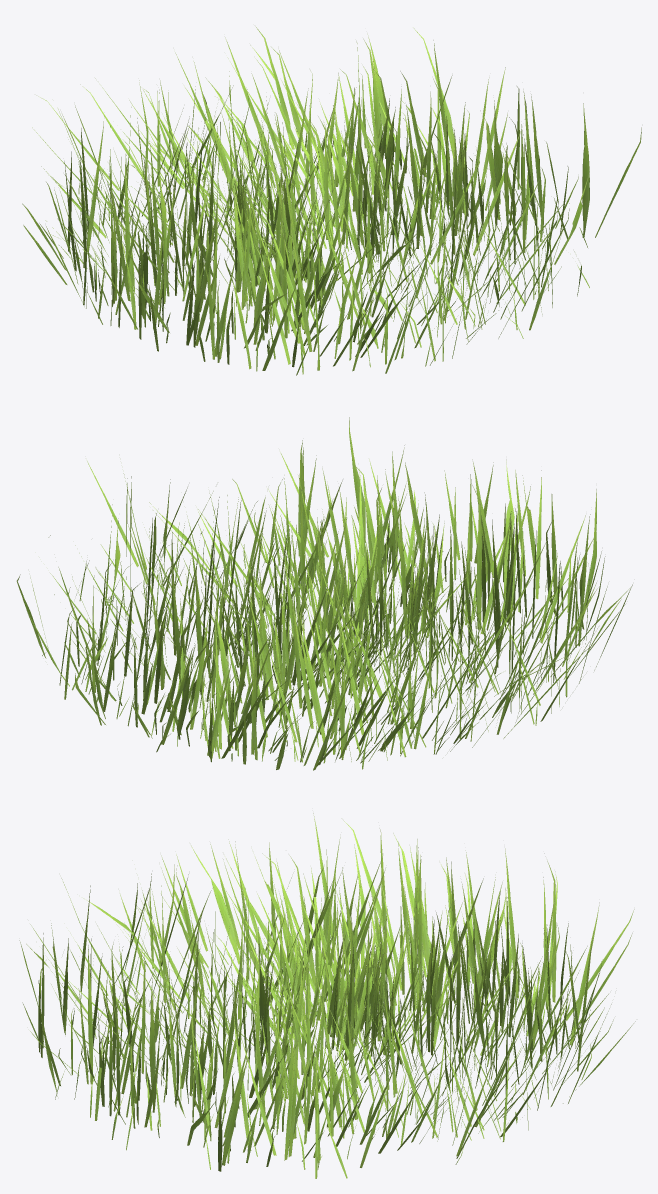
Rendered from grass_patch_1.fbx.
3 renders of one model, top to bottom at view 1: azimuth 30°, elevation 25°; view 2: azimuth 150°, elevation 25°; view 3: azimuth 270°, elevation 25°, orthographic. The views are drawn at different scales.
Visible parts, largest first — view 1: GrassLawnAutumn_Grass2_Mat1_0; view 2: GrassLawnAutumn_Grass2_Mat1_0; view 3: GrassLawnAutumn_Grass2_Mat1_0.
Boxes of the visible parts, left/top/right/bottom form: GrassLawnAutumn_Grass2_Mat1_0: left=22, top=26, right=641, bottom=375; GrassLawnAutumn_Grass2_Mat1_0: left=16, top=417, right=632, bottom=770; GrassLawnAutumn_Grass2_Mat1_0: left=19, top=813, right=635, bottom=1178.
Size of the model in its own units: 382 by 99.78 by 357.
Materials: 1 (1 with a texture image).
